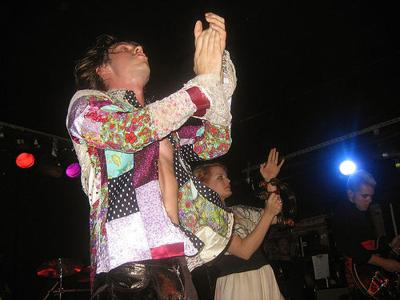person: (65, 10, 238, 298)
